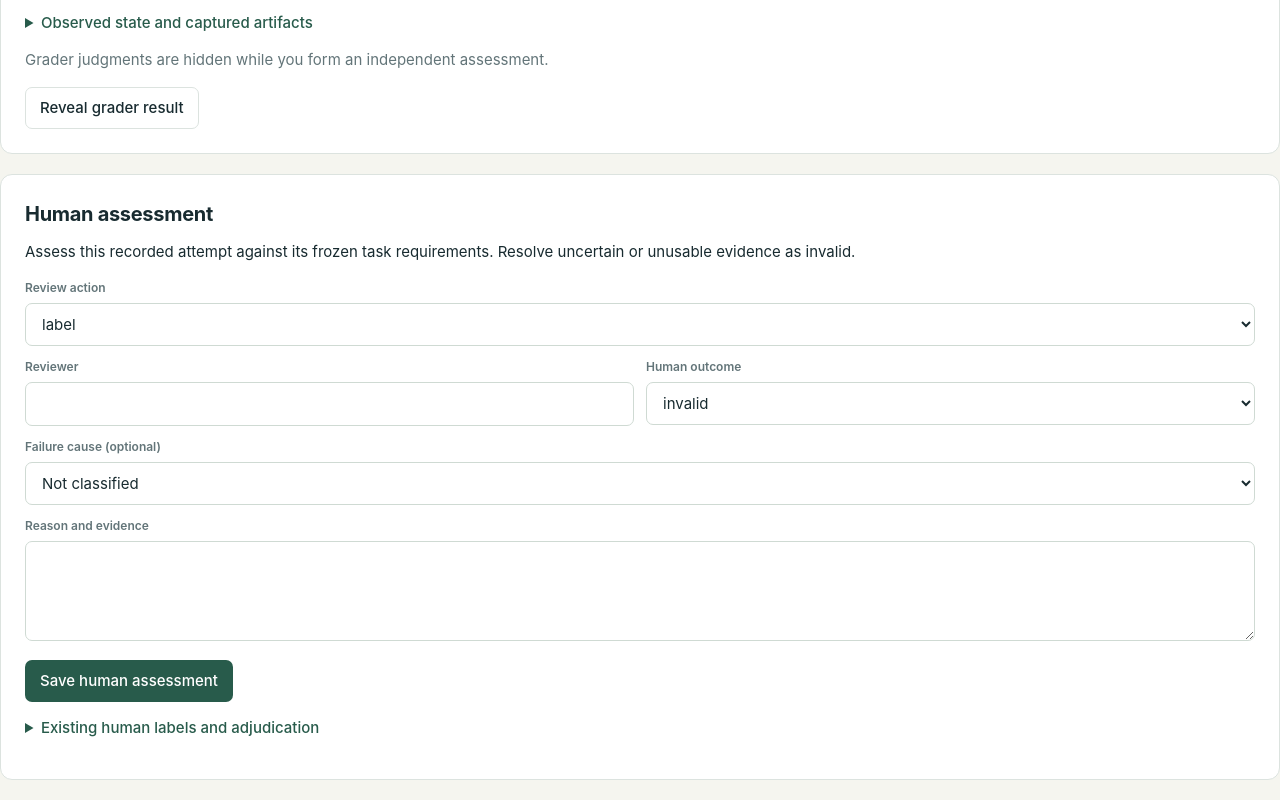
Scenario: human improvement workflows › Given an unreviewed actual attempt, When a human labels it, Then hides grader judgments first and binds the label to frozen evidence
(page scrolled)
Type "Domain owner" into the field labelled "Reviewer" at (330, 404), box top-left (25, 382), bottom-right (634, 426)
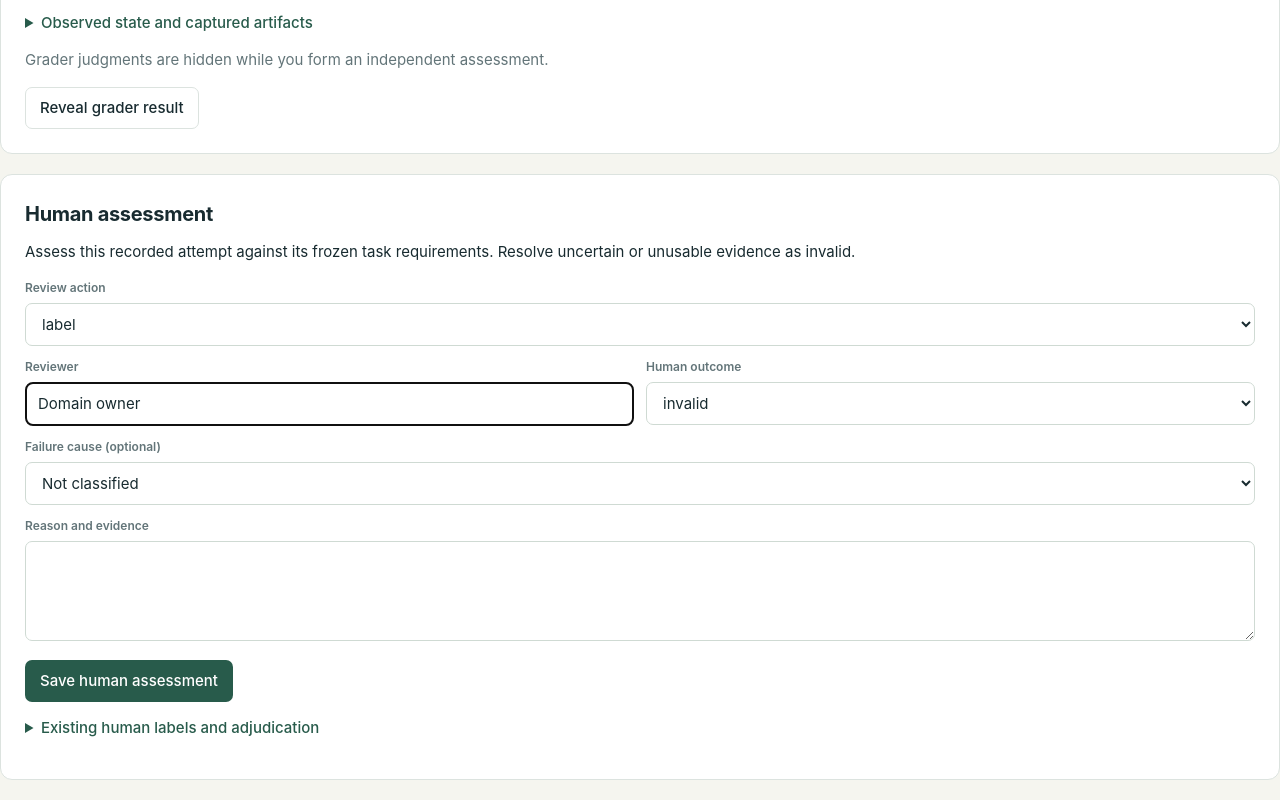
Select "fail" in the dropdown labelled "Human outcome" at (950, 404), box top-left (646, 382), bottom-right (1255, 425)
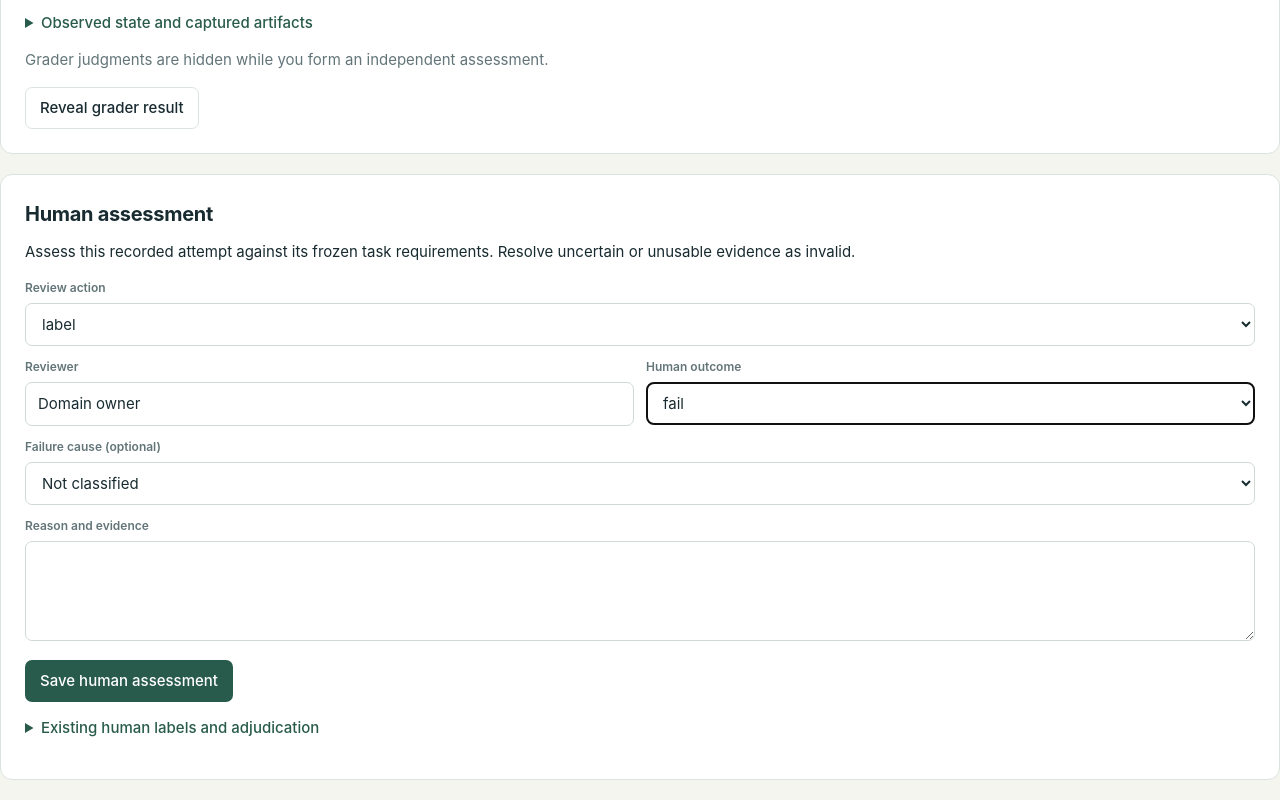
Select "grader false pass" in the dropdown labelled "Failure cause (optional)" at (640, 484), box top-left (25, 462), bottom-right (1255, 505)
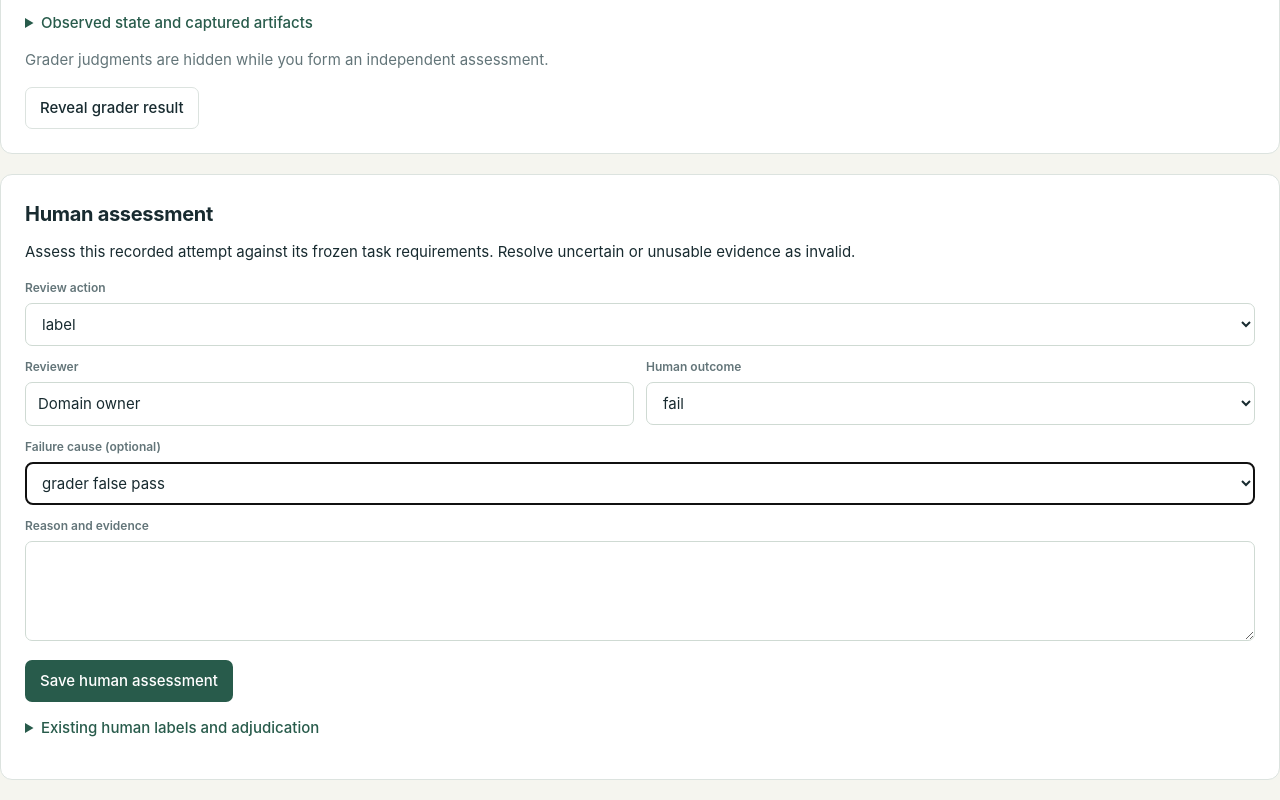
Type "Observed ticket was closed despite cancellation." into the text box labelled "Reason and evidence" at (640, 591), box top-left (25, 541), bottom-right (1255, 641)
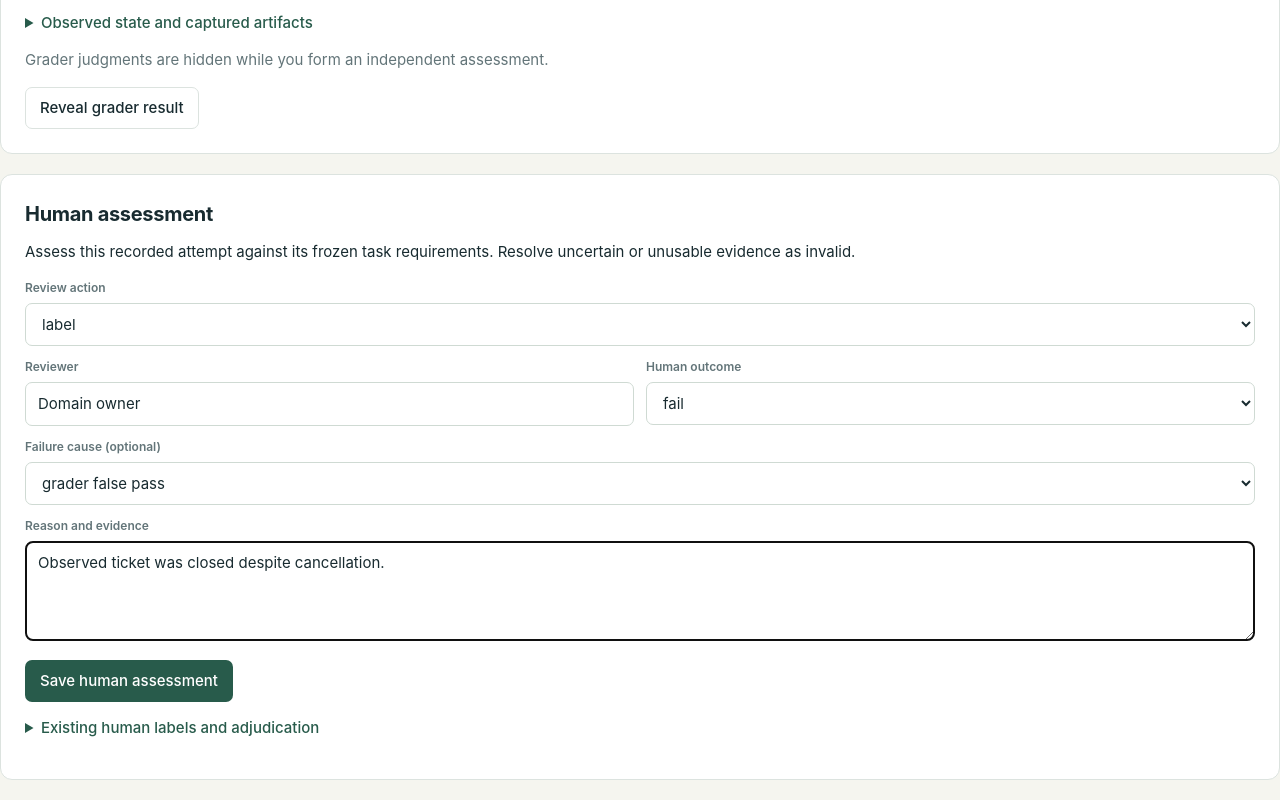
Click the button "Save human assessment" at (129, 681), box top-left (25, 660), bottom-right (233, 702)
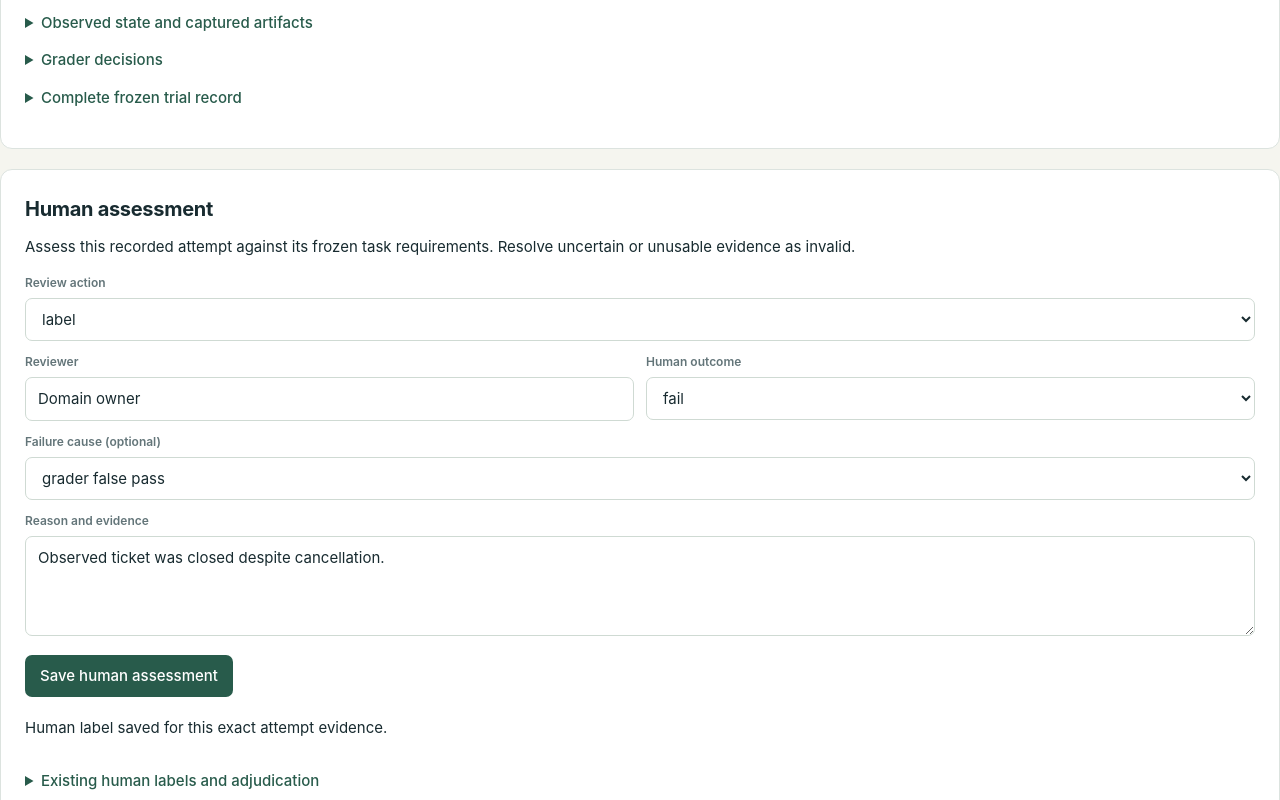
Now the text "Human label saved for this exact attempt evidence." is shown, box top-left (25, 718), bottom-right (387, 737)
